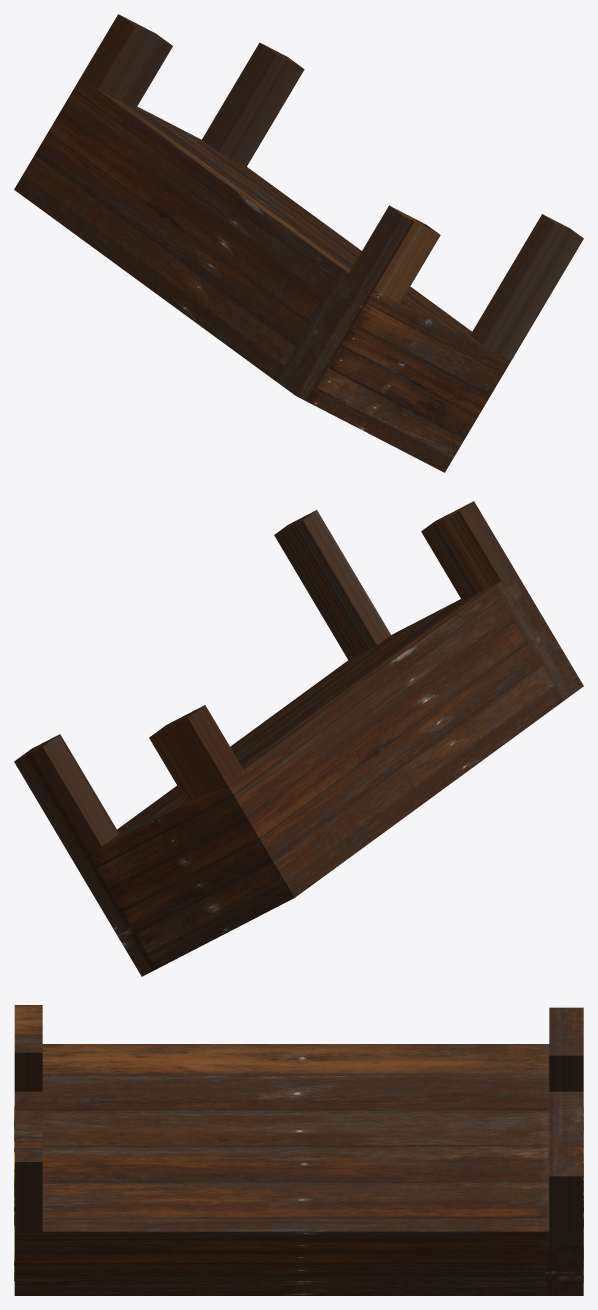
The model's file is caja-verduras.glb.
3 views of the same model, one above another, from view 1: azimuth 30°, elevation 25°; view 2: azimuth 150°, elevation 25°; view 3: azimuth 270°, elevation 25° (orthographic). The views are drawn at different scales.
Visible parts, largest first — view 1: Cube; view 2: Cube; view 3: Cube.
Boxes of the visible parts, x1,y1,x2,y2 form: Cube: [14, 14, 583, 472]; Cube: [14, 501, 583, 976]; Cube: [14, 1005, 583, 1295].
Size of the model in its own units: 3.43 by 3.04 by 5.82.
Materials: 2 (2 with a texture image).
